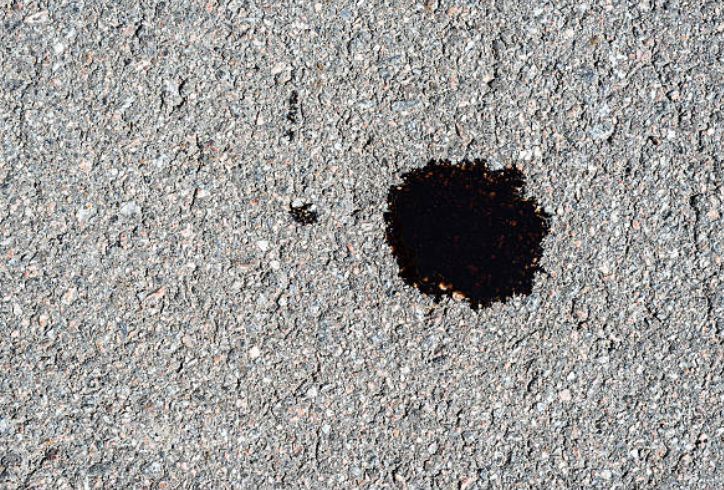oil: (192, 78, 275, 155), (141, 43, 154, 77), (143, 100, 161, 116)
